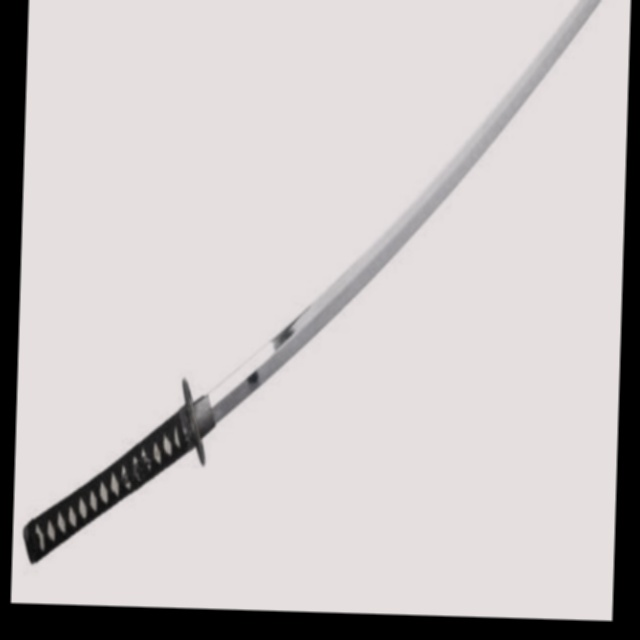Sharp-Object: (20, 0, 620, 597)
